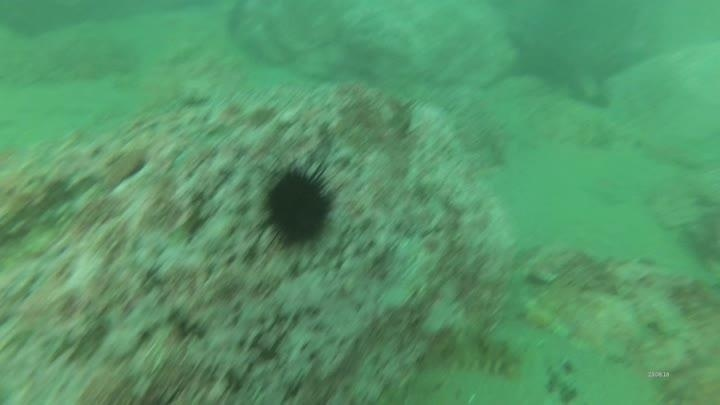echinus: (255, 159, 340, 252)
holothurian: (415, 323, 527, 381)
